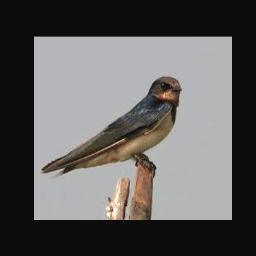Swallow: (41, 77, 182, 176)
